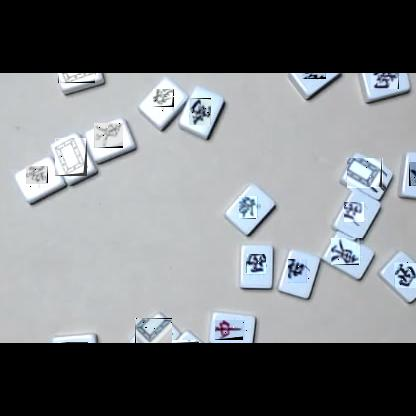1z: (332, 238, 364, 265), (94, 123, 123, 148), (172, 340, 199, 343)
2z: (189, 98, 211, 125), (371, 73, 399, 89)
3z: (394, 262, 416, 288), (345, 203, 368, 226), (246, 255, 266, 278)
4z: (289, 260, 310, 286), (26, 167, 48, 188), (302, 73, 326, 79)
5z: (348, 159, 387, 192), (55, 138, 87, 176), (135, 318, 172, 343), (58, 73, 95, 83)
6z: (240, 196, 261, 219), (153, 90, 174, 112), (409, 162, 416, 186)
7z: (216, 320, 248, 340), (58, 342, 88, 343)
